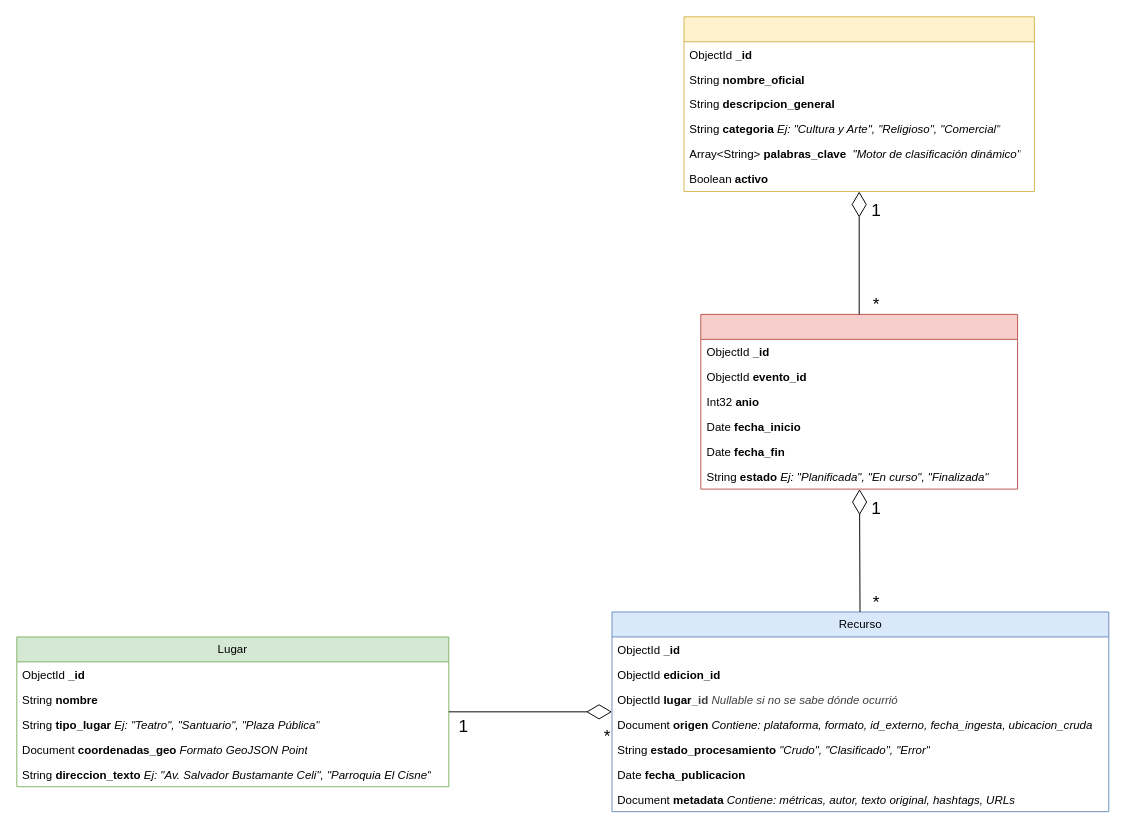
Some shapes in this 1126 by 831 pixel diagram are drawn without their labels. The box of each missing label's shape, as (x1, y1, x2, y2) in pixels:
Edicion: (700, 313, 1018, 489)
Evento: (683, 16, 1034, 192)
